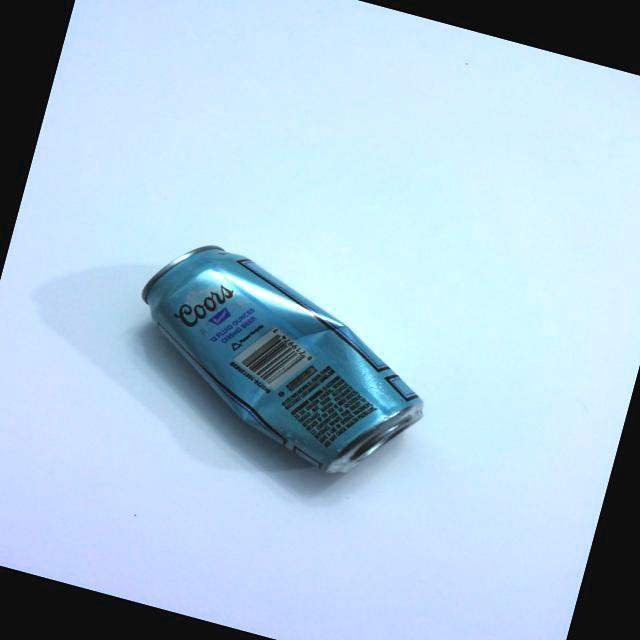metal: (96, 202, 462, 508)
